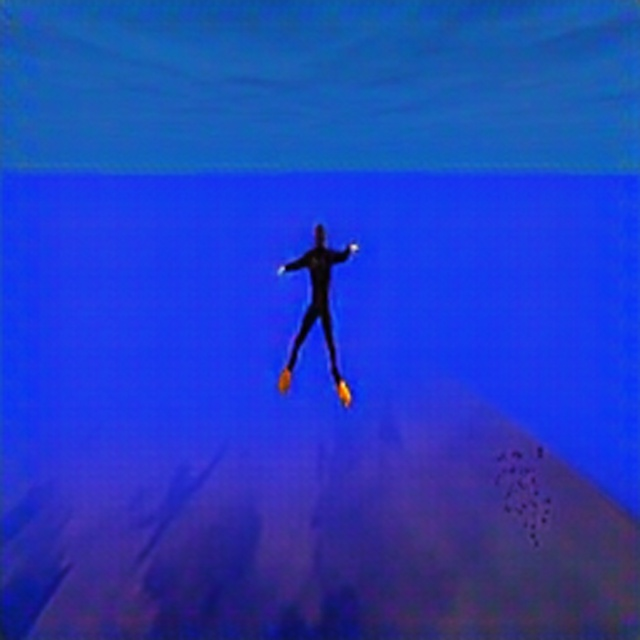diver: (273, 220, 362, 407)
